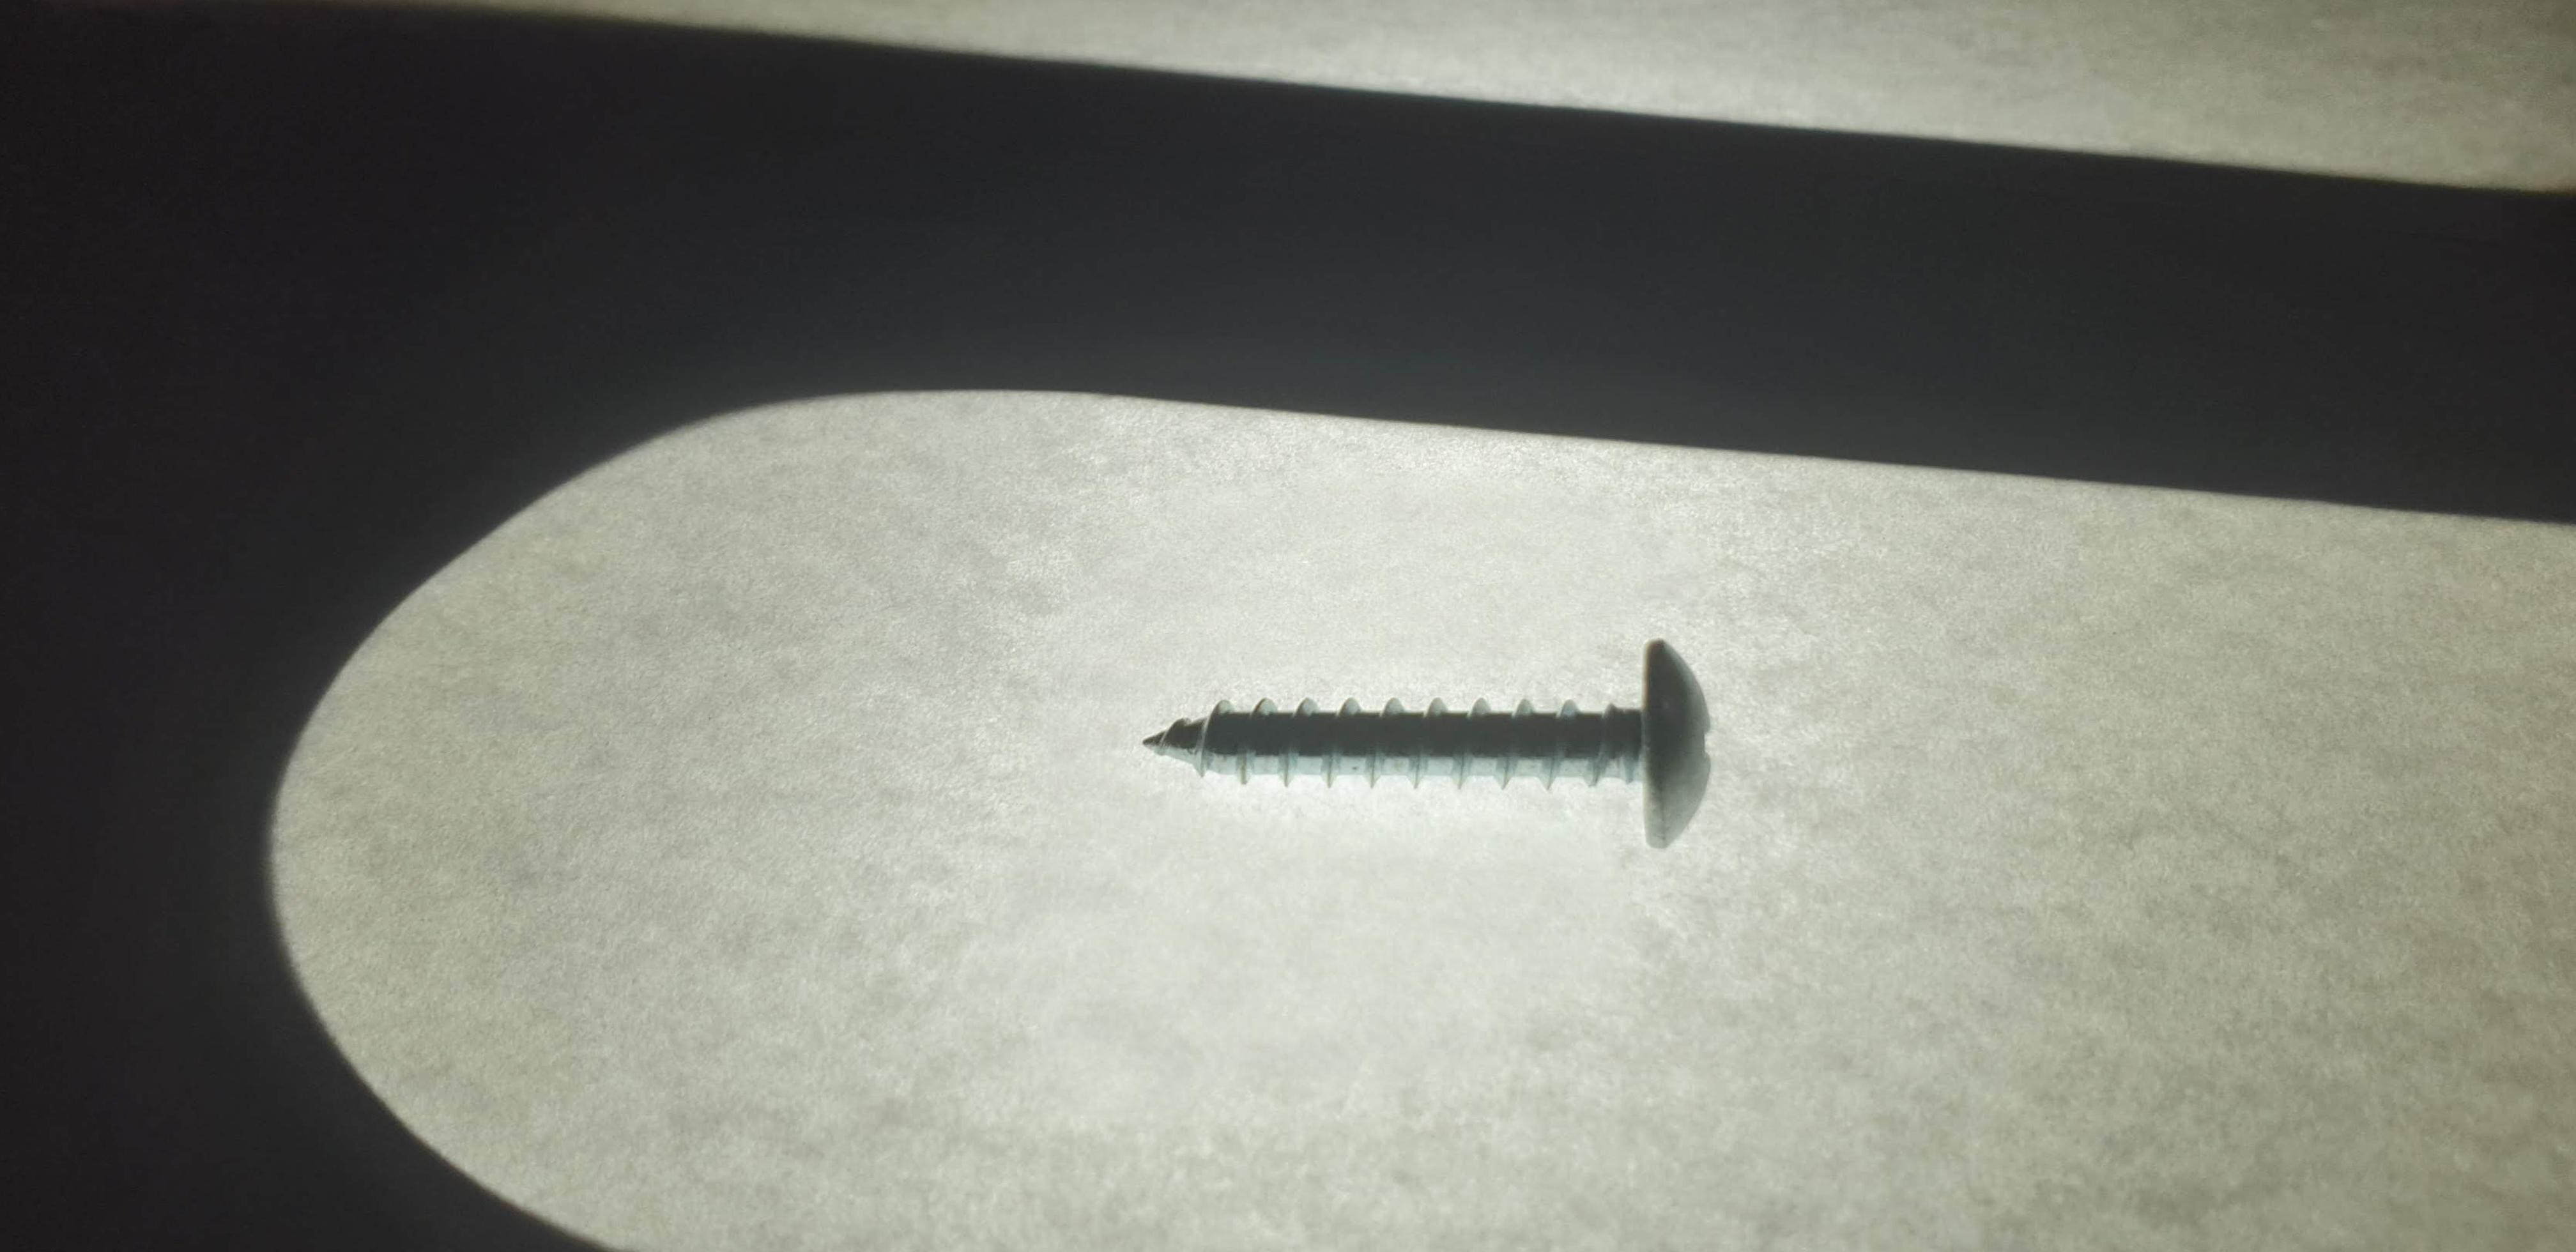S002: (1084, 619, 1796, 881)
